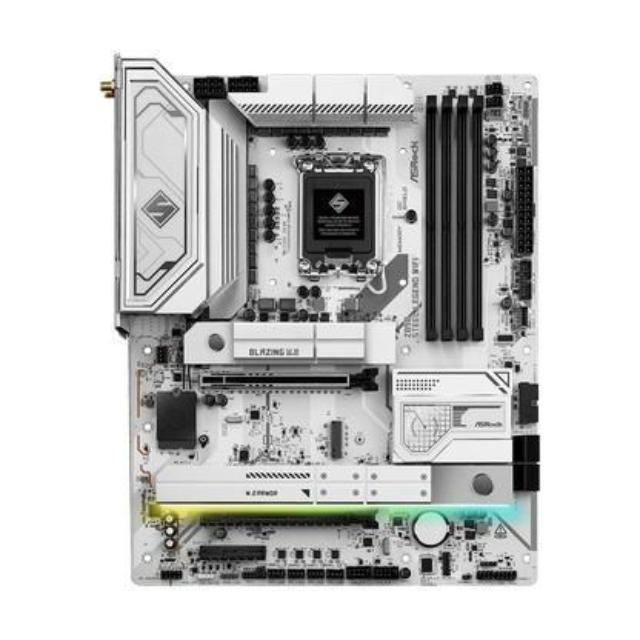Mainboard: (106, 54, 542, 592)
